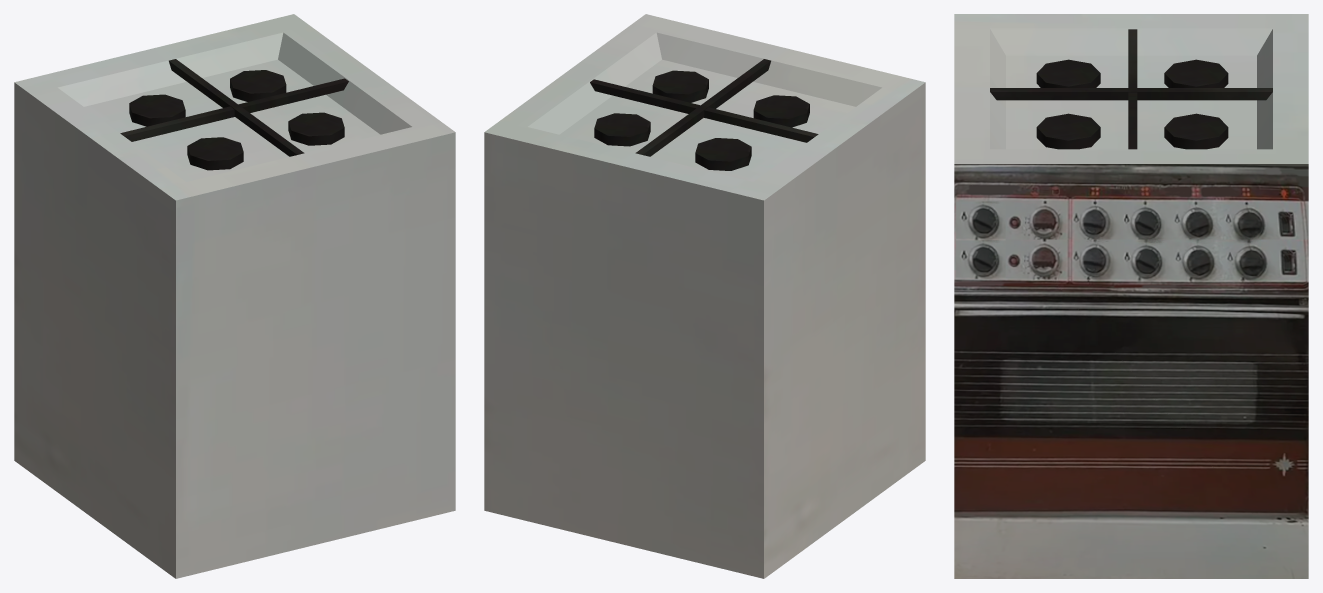
The model's file is GasStove.fbx.
3 views of the same model, side by side, from view 1: azimuth 30°, elevation 25°; view 2: azimuth 150°, elevation 25°; view 3: azimuth 270°, elevation 25° (orthographic). The views are drawn at different scales.
Parts seen in each view (by area): view 1: Cube.085; view 2: Cube.085; view 3: Cube.085.
Boxes of the visible parts, left/top/right/bottom form: Cube.085: left=14, top=14, right=455, bottom=578; Cube.085: left=484, top=14, right=925, bottom=578; Cube.085: left=954, top=14, right=1308, bottom=578.
Bounding box in the file's own units: 100 × 130 × 100.
Materials: 1 (1 with a texture image).
